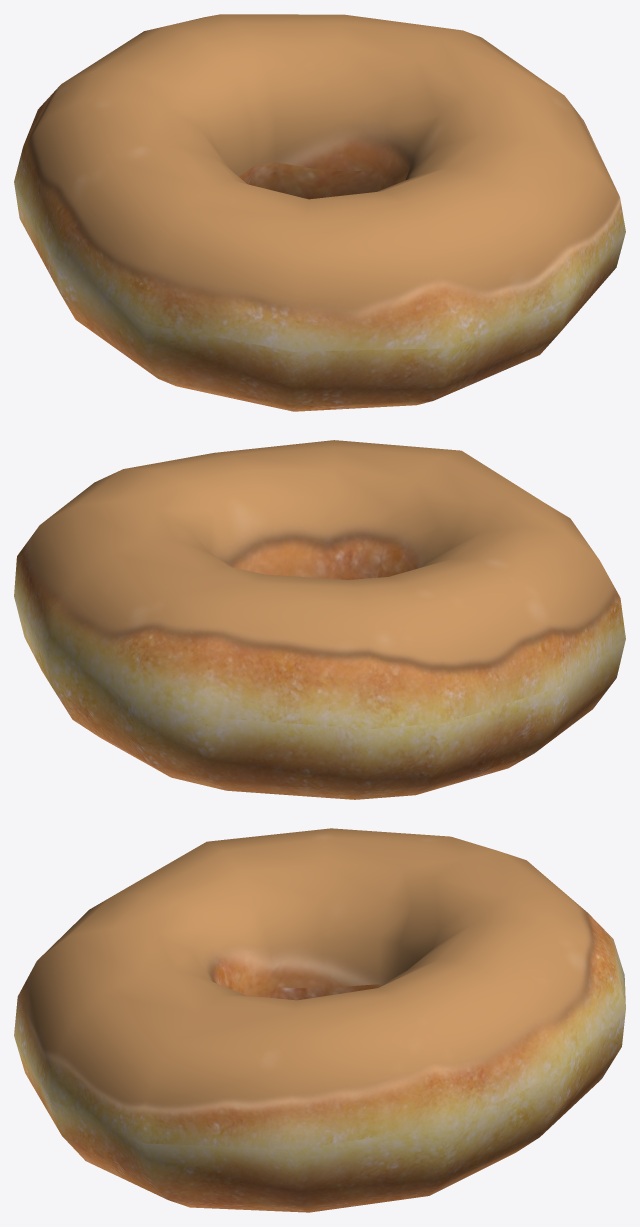
Rendered from Donut10LP.obj.
3 views of the same model, one above another, from view 1: azimuth 30°, elevation 25°; view 2: azimuth 150°, elevation 25°; view 3: azimuth 270°, elevation 25° (orthographic).
Visible parts, largest first — view 1: donut064; view 2: donut064; view 3: donut064.
Boxes of the visible parts, box(x1,y1,x2,y2) form: donut064: box(14, 14, 625, 411); donut064: box(14, 440, 625, 799); donut064: box(14, 828, 625, 1212).
Size of the model in its own units: 9.42 by 3.94 by 9.78.
Materials: 1 (1 with a texture image).
